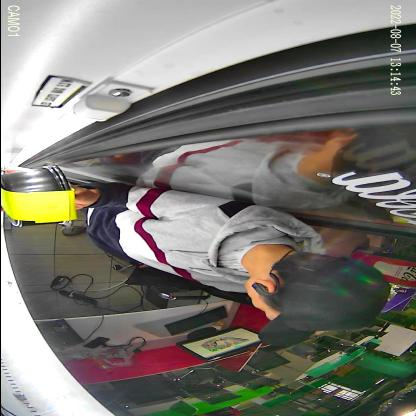yellow: (1, 162, 76, 228)
